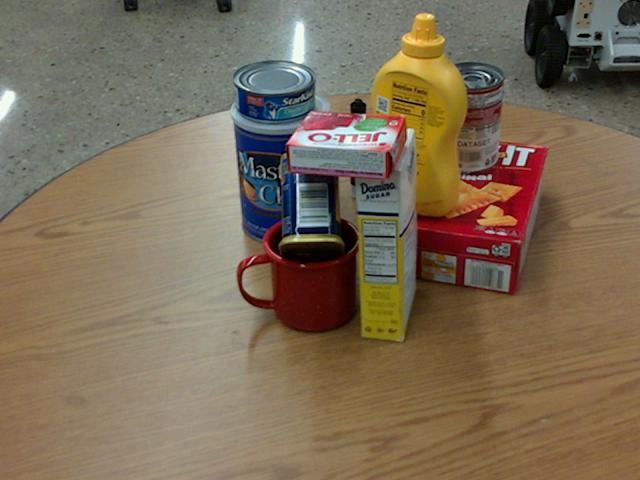cracker_box: (358, 130, 547, 294)
gelatin_box: (284, 109, 408, 180)
large_marker: (348, 100, 365, 199)
master_chef_can: (231, 85, 332, 243)
mug: (233, 214, 358, 332)
mustard_bottle: (367, 13, 467, 216)
potted_meat_can: (278, 150, 344, 267)
sugar_box: (353, 127, 415, 341)
tomato_soup_can: (437, 61, 503, 172)
tuna_fish_can: (232, 59, 315, 121)
